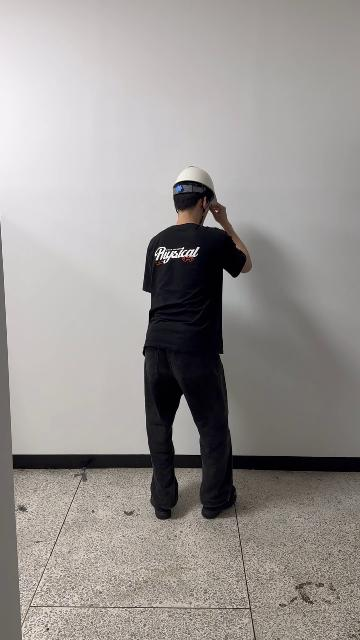helmet_worn: (173, 165, 216, 195)
shoe_worn: (201, 488, 236, 519), (152, 503, 172, 520)
vest_not_worn: (149, 226, 223, 382)
